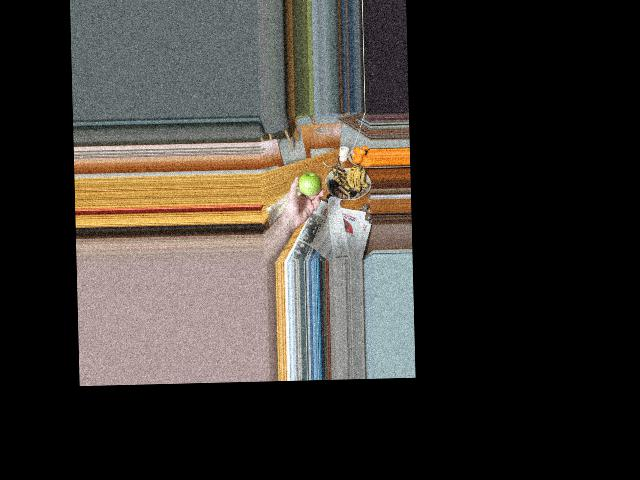apple: (296, 172, 318, 196)
